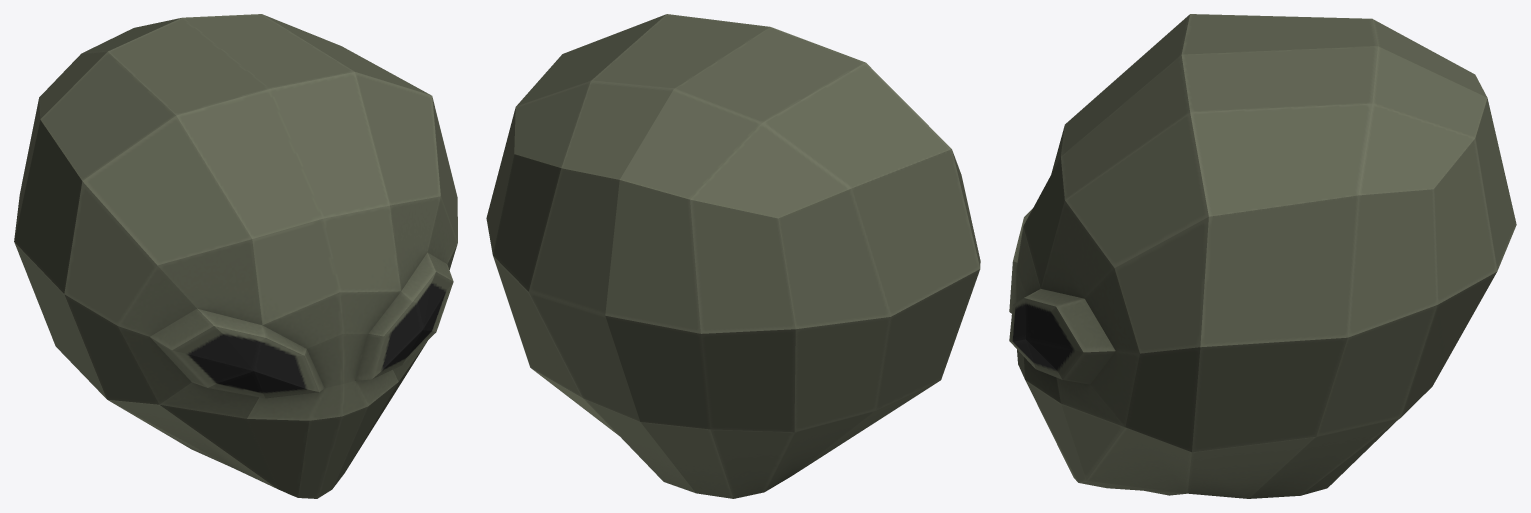
Rendered from head.obj.
3 renders of one model, left to right at view 1: azimuth 30°, elevation 25°; view 2: azimuth 150°, elevation 25°; view 3: azimuth 270°, elevation 25°, orthographic. The views are drawn at different scales.
Parts seen in each view (by area): view 1: Alien_head; view 2: Alien_head; view 3: Alien_head.
Boxes of the visible parts, x1,y1,x2,y2 form: Alien_head: (14,14,457,498); Alien_head: (486,14,980,498); Alien_head: (1009,14,1516,498).
Bounding box in the file's own units: 3.04 × 2.94 × 3.01.
